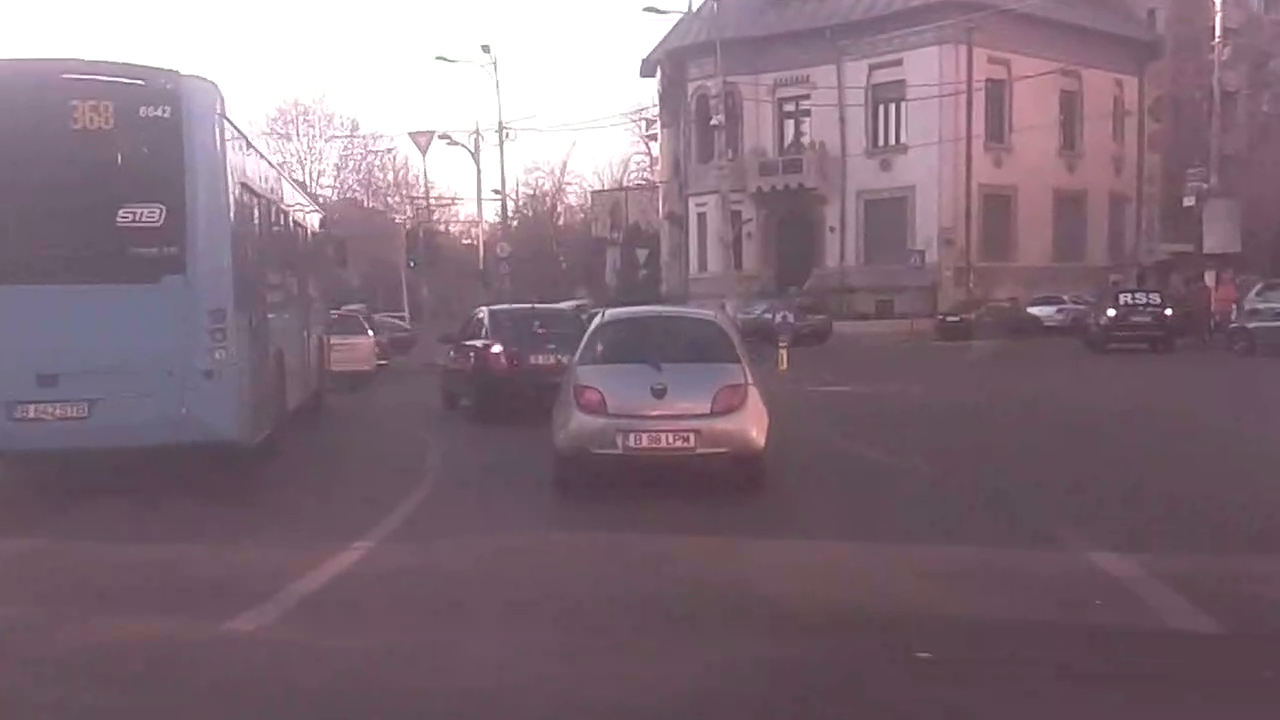license-plate: (620, 427, 699, 450)
